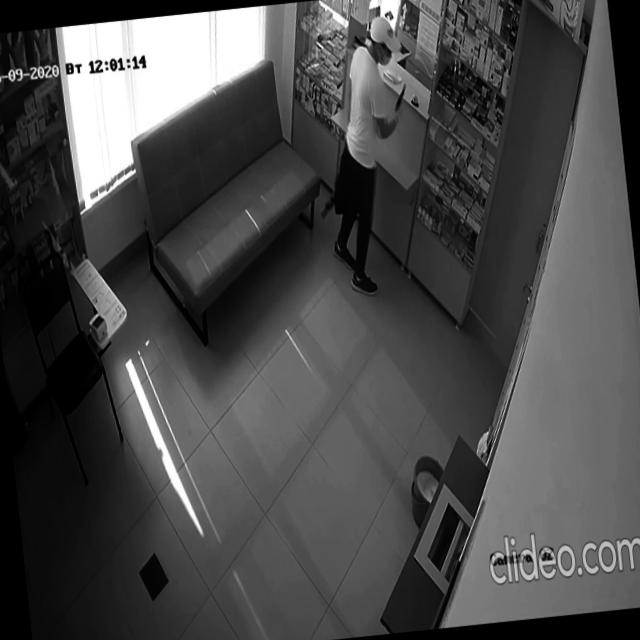gun: (391, 81, 408, 112)
person with a gun: (308, 13, 427, 300)
